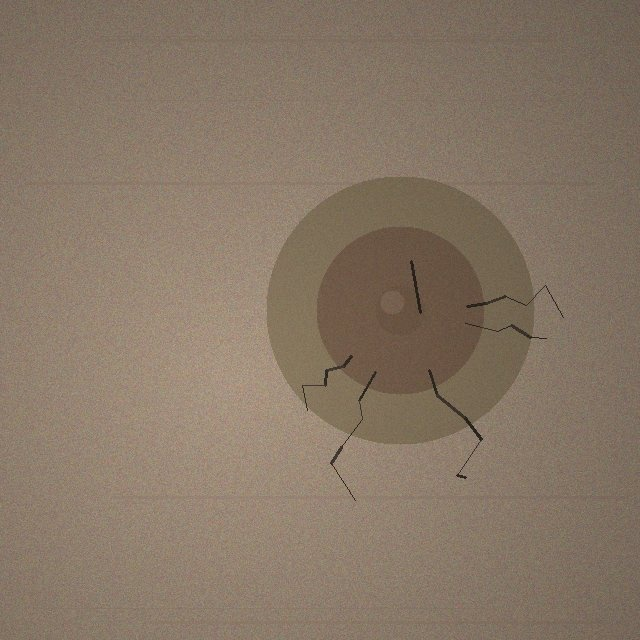crack: (266, 176, 534, 444)
